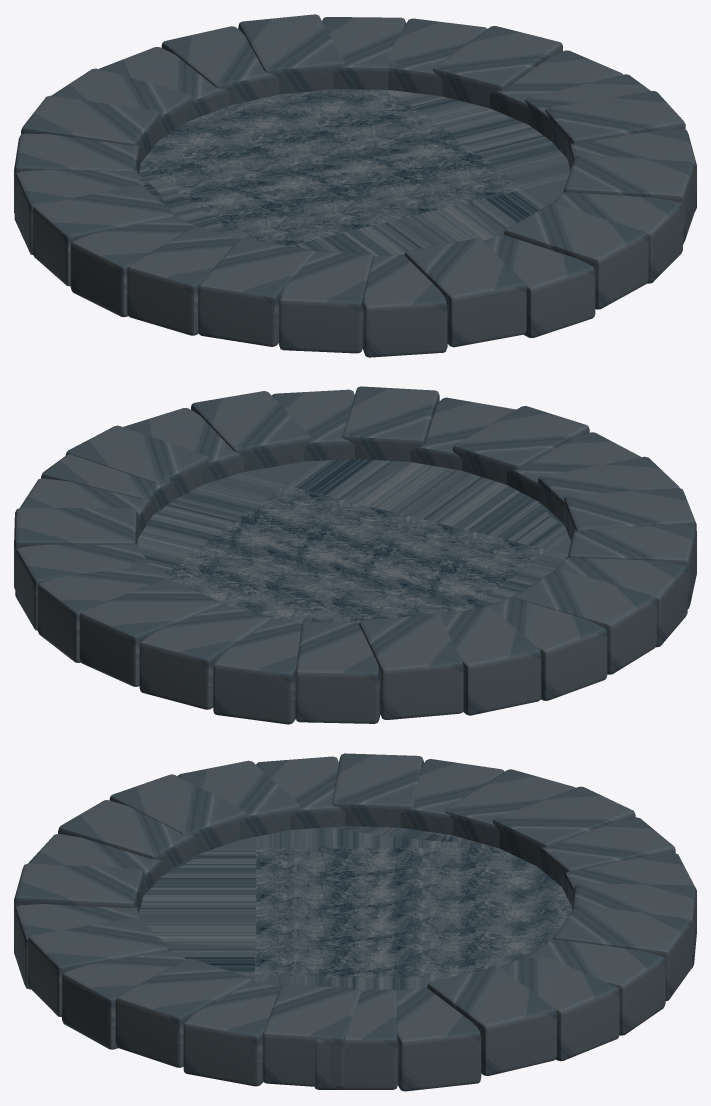
Rendered from upgrade_collection_node.fbx.
3 renders of one model, top to bottom at view 1: azimuth 30°, elevation 25°; view 2: azimuth 150°, elevation 25°; view 3: azimuth 270°, elevation 25°, orthographic.
Visible parts, largest first — view 1: upgrade_collection_node; view 2: upgrade_collection_node; view 3: upgrade_collection_node.
Part boxes in pixels (x1=…): upgrade_collection_node: x1=14, y1=14, x2=696, y2=357; upgrade_collection_node: x1=14, y1=386, x2=696, y2=724; upgrade_collection_node: x1=14, y1=753, x2=696, y2=1091.
Bounding box in the file's own units: 146 × 14.68 × 146.
1 material, 1 textured.
